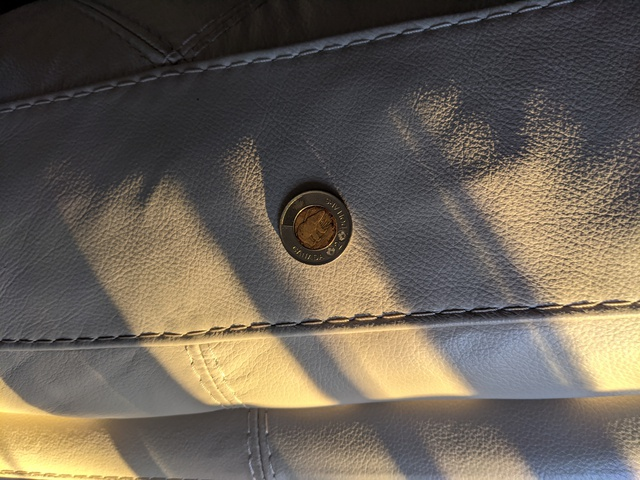twonie: (270, 180, 362, 268)
